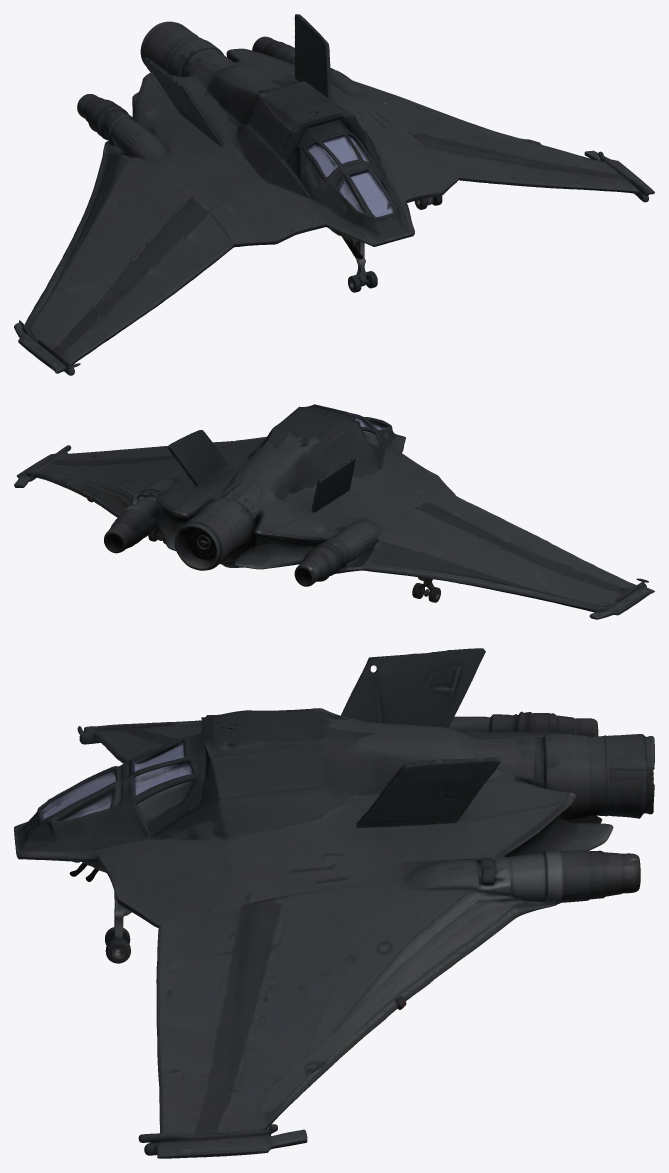
The model's file is x302_fighter_thrust.glb.
3 views of the same model, one above another, from view 1: azimuth 30°, elevation 25°; view 2: azimuth 150°, elevation 25°; view 3: azimuth 270°, elevation 25° (orthographic). The views are drawn at different scales.
Parts seen in each view (by area): view 1: world; view 2: world; view 3: world.
Part boxes in pixels (x1,y1,x2,y2): world: [14, 14, 654, 375]; world: [14, 404, 654, 619]; world: [14, 648, 654, 1158].
Size of the model in its own units: 1 by 0.2598 by 0.6054.
Materials: 2 (2 with a texture image).
